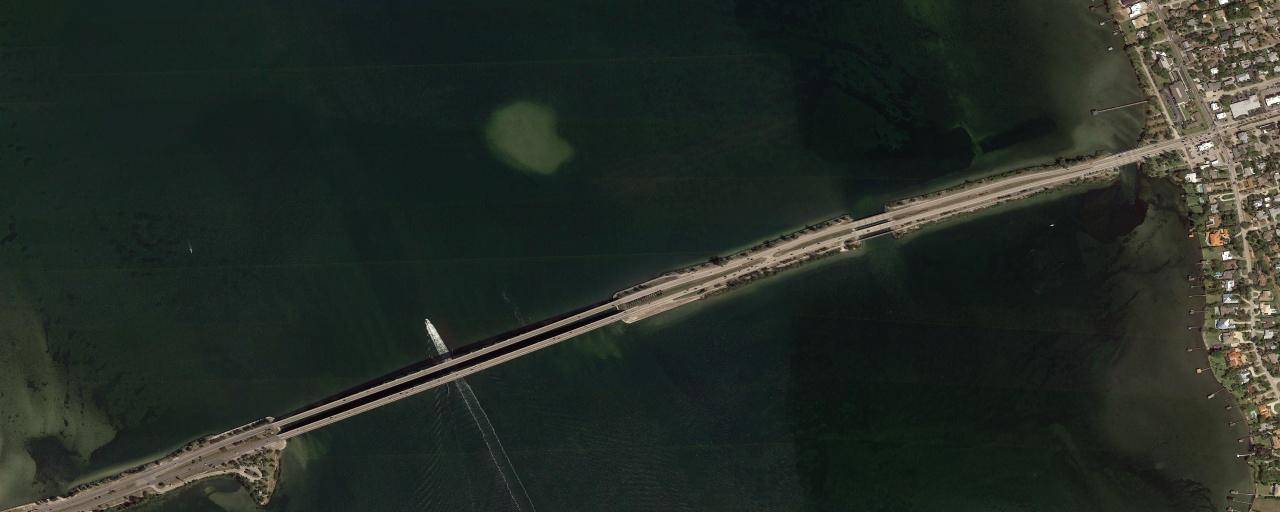bridge: (279, 311, 629, 442), (273, 299, 624, 429), (853, 212, 891, 229), (1112, 148, 1144, 168), (857, 221, 894, 237)
ship: (423, 318, 444, 348)
